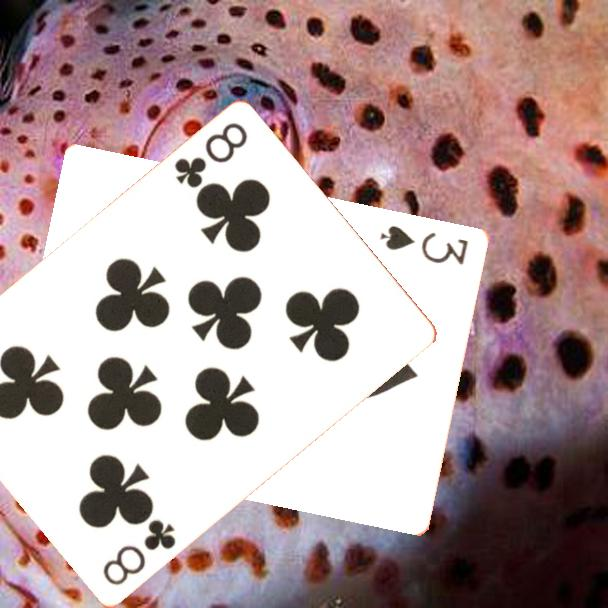c08: (170, 119, 251, 192), (99, 516, 179, 589)
s03: (377, 221, 472, 268)
